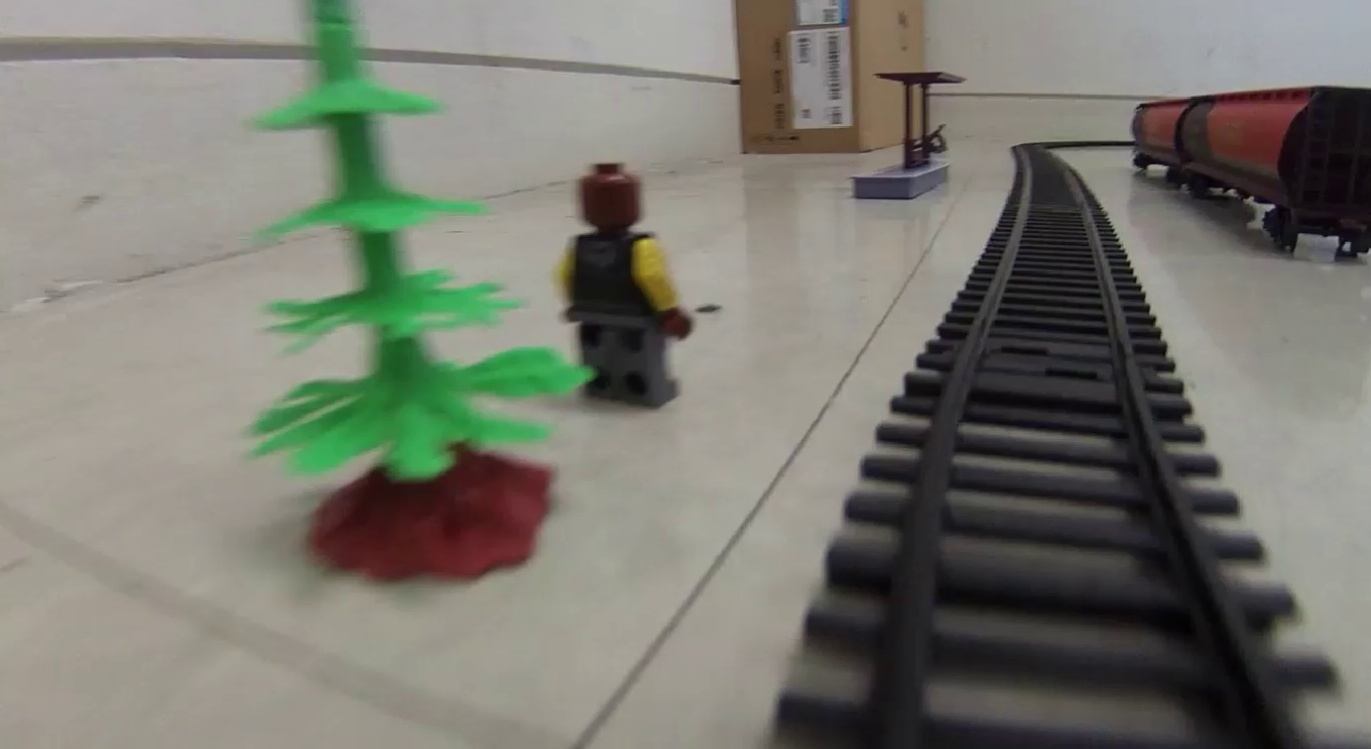people: (559, 163, 694, 410)
tree: (238, 1, 570, 581)
